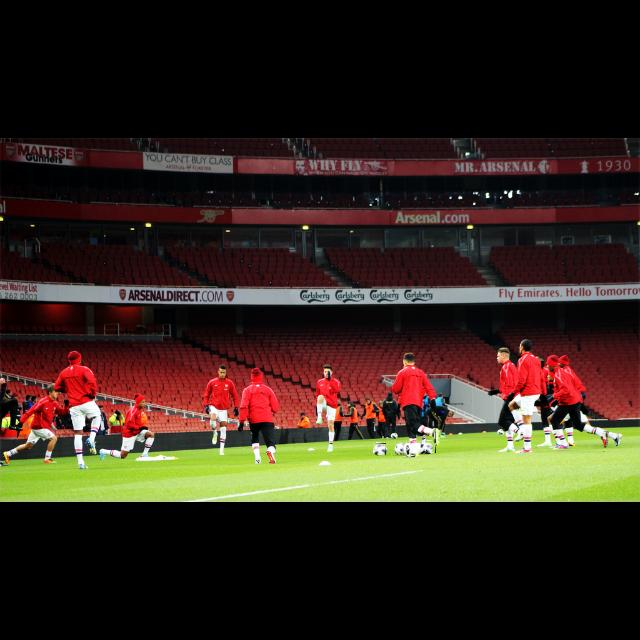Football: (391, 440, 407, 456), (374, 443, 386, 455), (426, 441, 436, 453)
